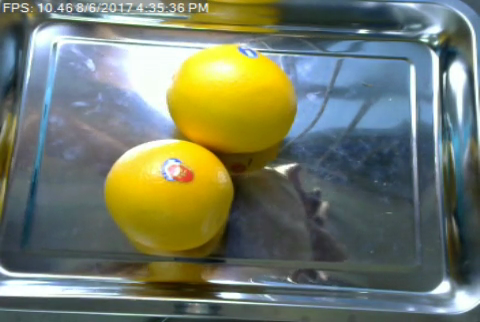Orange: (102, 138, 234, 250), (166, 44, 297, 153)
